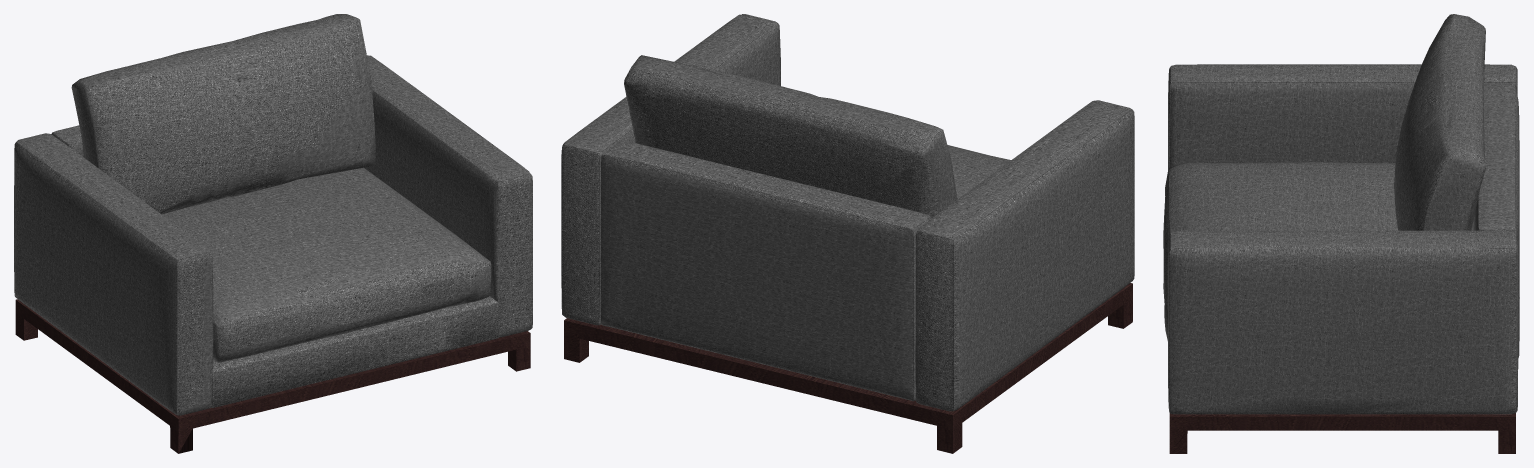
The model's file is Sofa 2.FBX.
3 renders of one model, left to right at view 1: azimuth 30°, elevation 25°; view 2: azimuth 150°, elevation 25°; view 3: azimuth 270°, elevation 25°, orthographic. The views are drawn at different scales.
Parts seen in each view (by area): view 1: Sofa 2; view 2: Sofa 2; view 3: Sofa 2.
Part boxes in pixels (<box>): Sofa 2: <box>14,14,532,453</box>; Sofa 2: <box>561,14,1134,453</box>; Sofa 2: <box>1163,14,1519,453</box>.
Size of the model in its own units: 141 by 96.6 by 112.
Materials: 2 (2 with a texture image).
